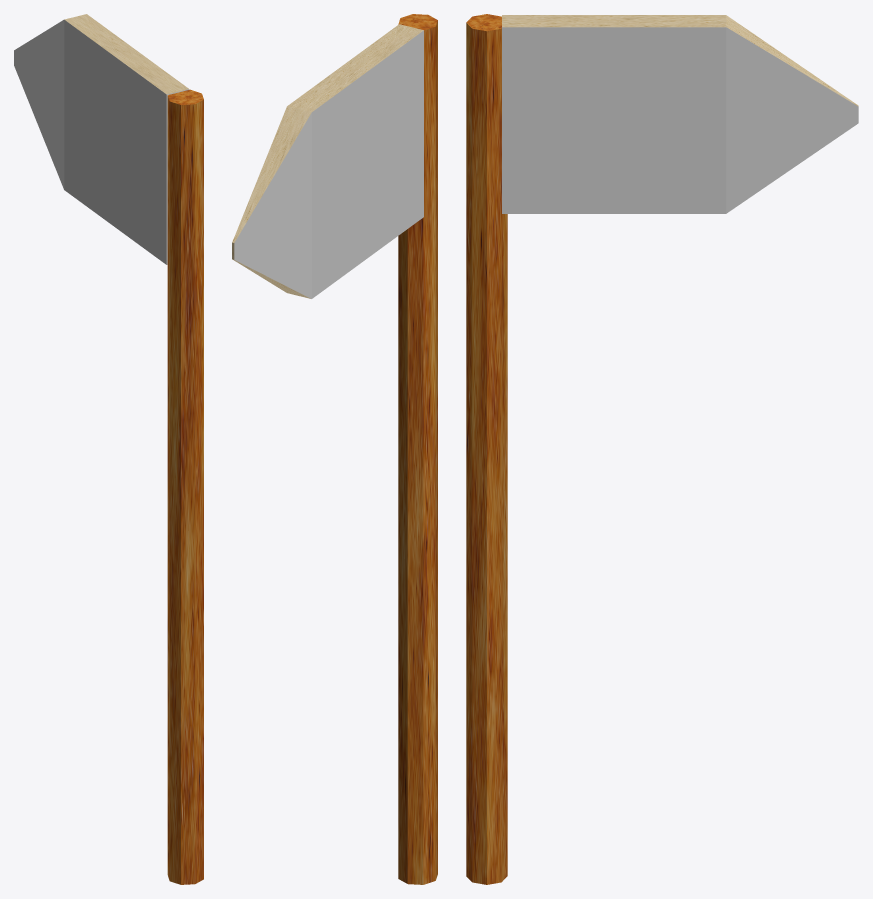
The model's file is flag.fbx.
3 renders of one model, left to right at view 1: azimuth 30°, elevation 25°; view 2: azimuth 150°, elevation 25°; view 3: azimuth 270°, elevation 25°, orthographic. The views are drawn at different scales.
Visible parts, largest first — view 1: FlagBASE, Cube; view 2: Cube, FlagBASE; view 3: Cube, FlagBASE.
Part boxes in pixels (<box>): FlagBASE: <box>167,89,203,884</box>; Cube: <box>14,14,189,264</box>; Cube: <box>232,24,423,298</box>; FlagBASE: <box>398,14,437,884</box>; Cube: <box>502,15,858,213</box>; FlagBASE: <box>466,14,507,884</box>.
Bounding box in the file's own units: 0.012 × 0.2769 × 0.1152.
